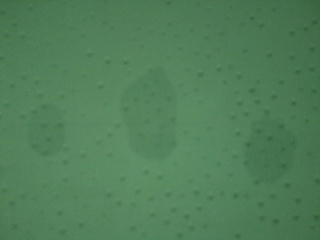Water_detected: (110, 78, 173, 157), (21, 103, 61, 153), (232, 127, 263, 161)
